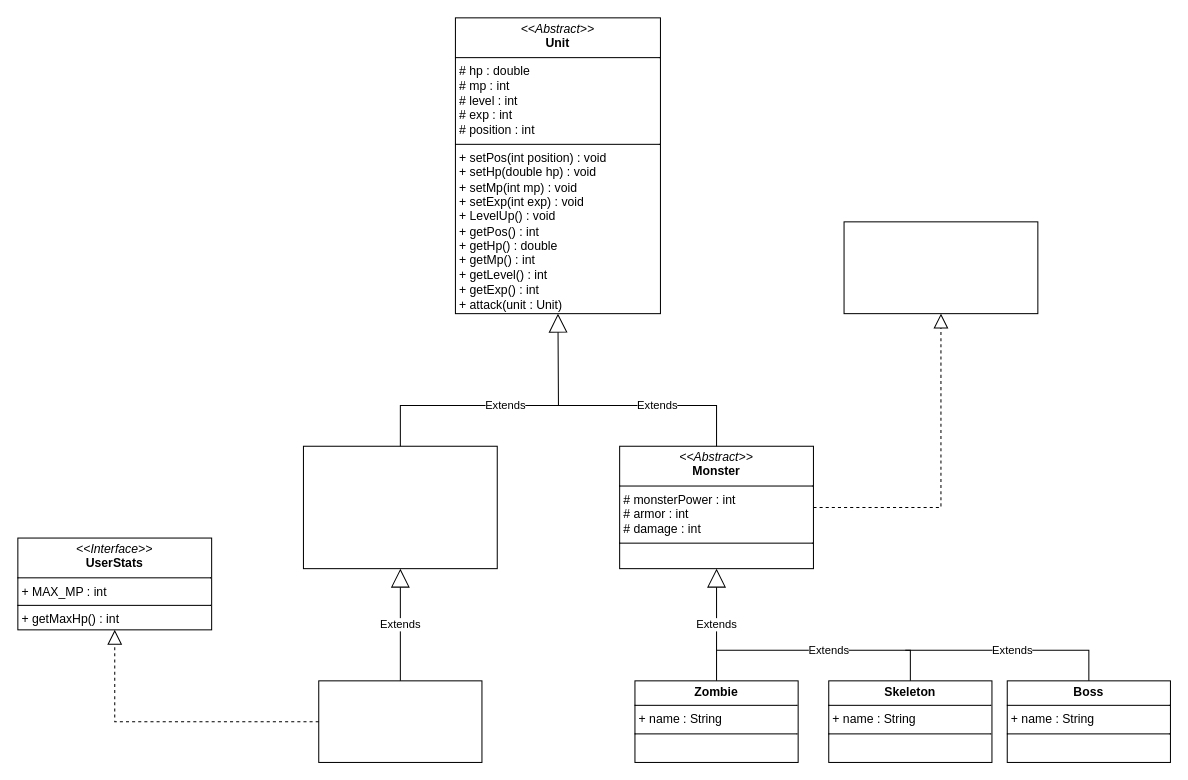
Some shapes in this 1188 by 780 pixel diagram are drawn without their labels. The centre of each missing label's shape, as x and y in pixels:
"<<Abstract>> Player # playerPower : int # armor : int # damage : int" goes at [399,507].
"<<Interface>> Name + prefix : String[] + setName() : String" goes at [940,267].
"User + skill() : void" goes at [400,721].
